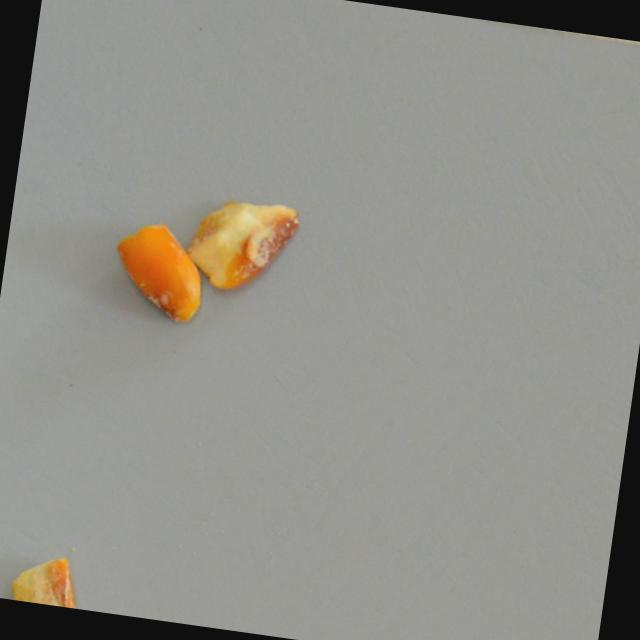dañado: (179, 190, 303, 305), (101, 213, 212, 329), (6, 547, 102, 611)
